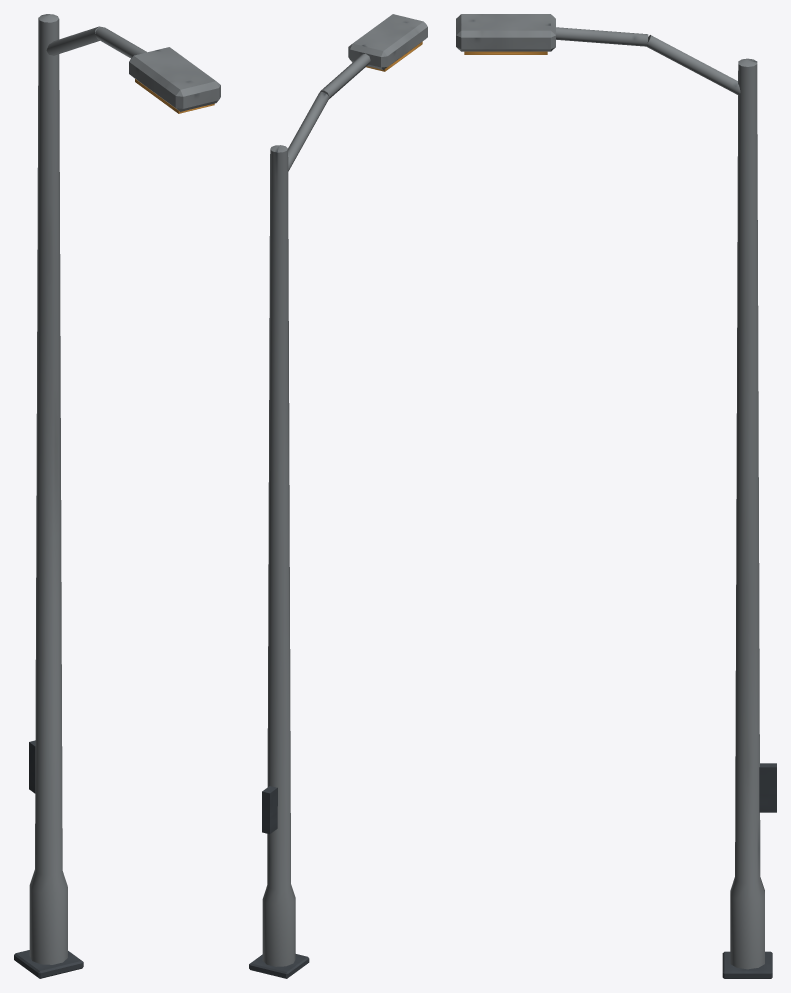
The model's file is lamp_post_lc.obj.
3 views of the same model, side by side, from view 1: azimuth 30°, elevation 25°; view 2: azimuth 150°, elevation 25°; view 3: azimuth 270°, elevation 25° (orthographic). The views are drawn at different scales.
Visible parts, largest first — view 1: lamp_post_lc; view 2: lamp_post_lc; view 3: lamp_post_lc.
Part boxes in pixels (left/top/right/bottom): lamp_post_lc: left=14, top=14, right=220, bottom=978; lamp_post_lc: left=249, top=14, right=427, bottom=978; lamp_post_lc: left=456, top=14, right=776, bottom=978.
Bounding box in the file's own units: 0.3 × 6.27 × 1.92.
1 material, 1 textured.
